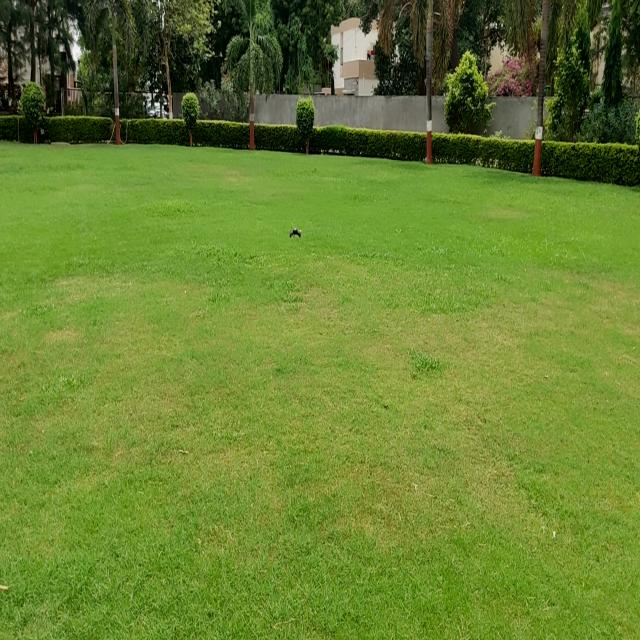drone: (276, 215, 311, 246)
